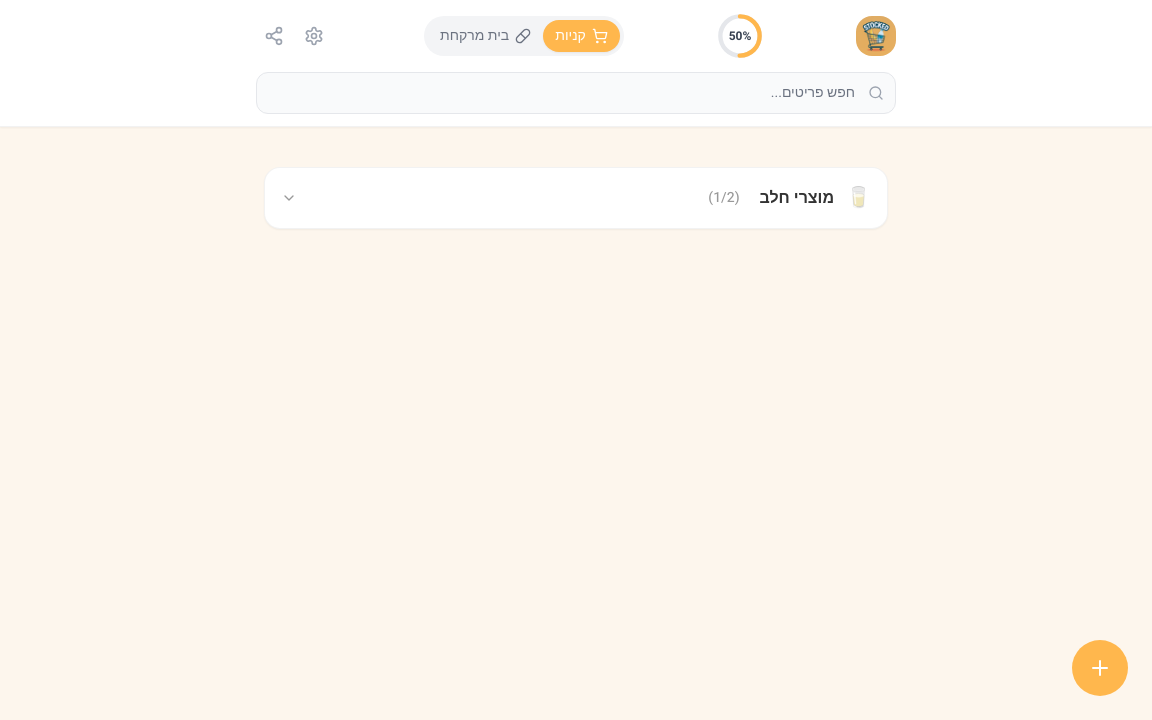
Scenario: HomeScreen - Detailed Tests › Search Functionality › shows "no results" message when search has no matches
The width and height of the screenshot is (1152, 720).
Type "xyz123notfound" into the field with placeholder "חפש פריטים..." at (576, 93), box [256,72,896,114]
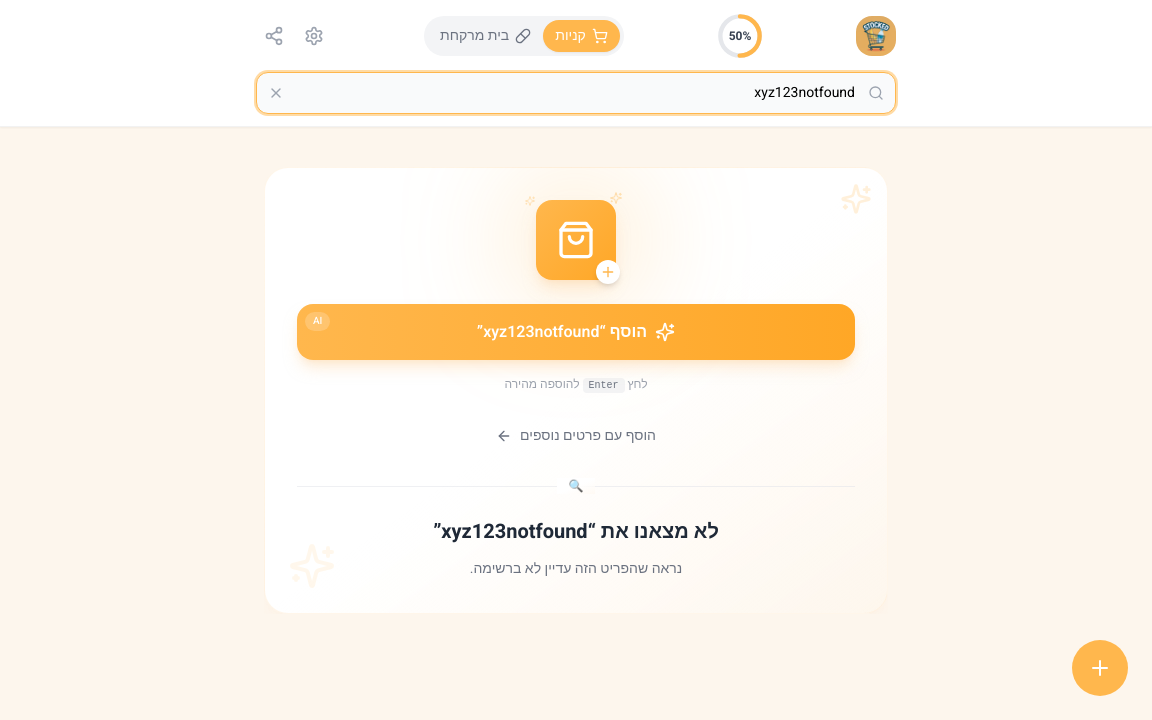
Expected: the heading "לא מצאנו את “xyz123notfound”" is shown, [433,517,719,546]
